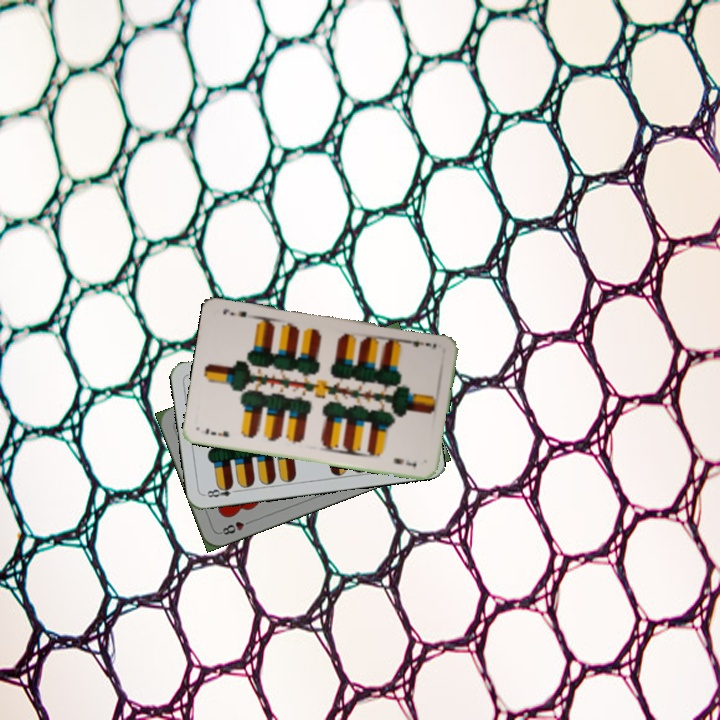E7: (402, 335, 439, 352), (201, 424, 231, 440)
E8: (201, 481, 241, 500)
H8: (216, 516, 255, 538)
